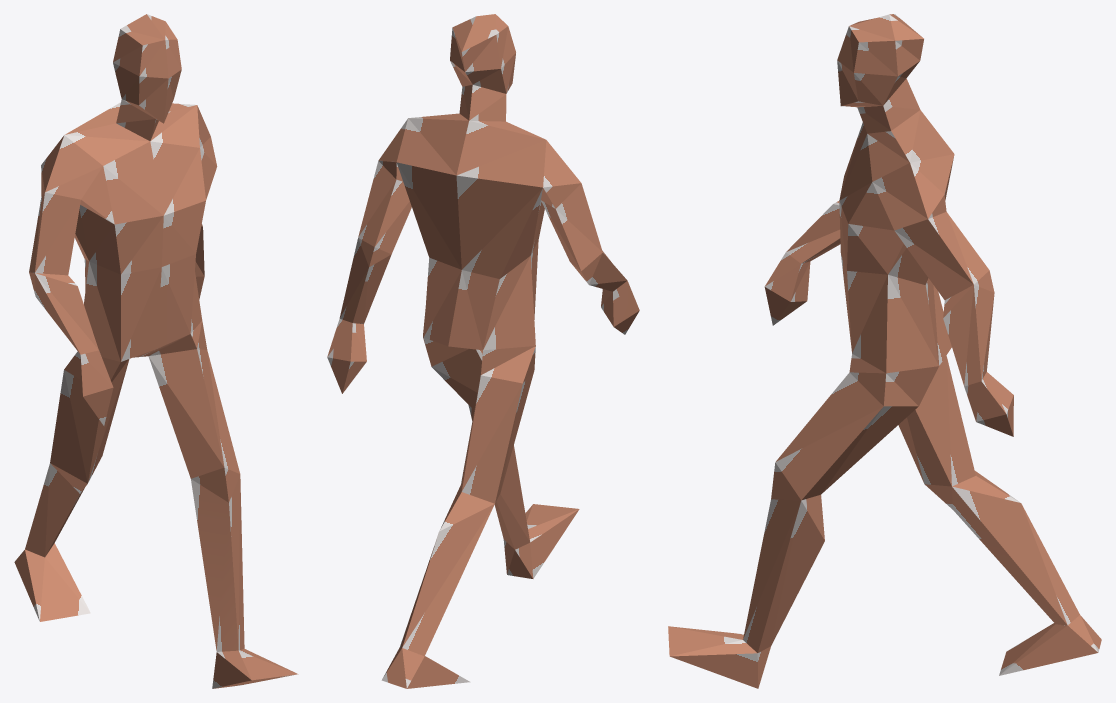
3 views of the same model, side by side, from view 1: azimuth 30°, elevation 25°; view 2: azimuth 150°, elevation 25°; view 3: azimuth 270°, elevation 25° (orthographic). The views are drawn at different scales.
Visible parts, largest first — view 1: Default; view 2: Default; view 3: Default.
Part boxes in pixels (bbox=[...]): Default: bbox=[14, 14, 298, 688]; Default: bbox=[327, 14, 639, 688]; Default: bbox=[668, 14, 1101, 688].
Size of the model in its own units: 0.7688 by 2.13 by 1.26.
